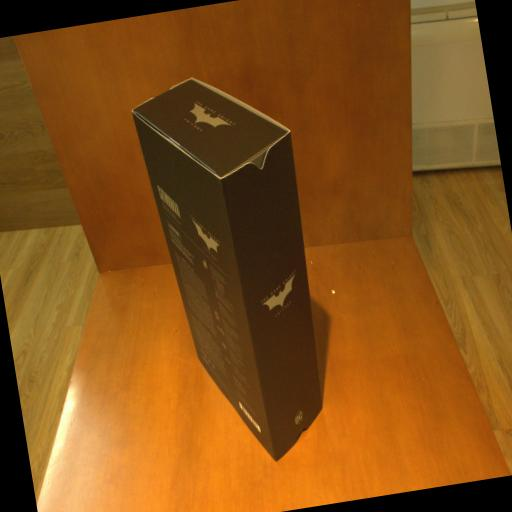catwoman: (128, 63, 339, 472)
